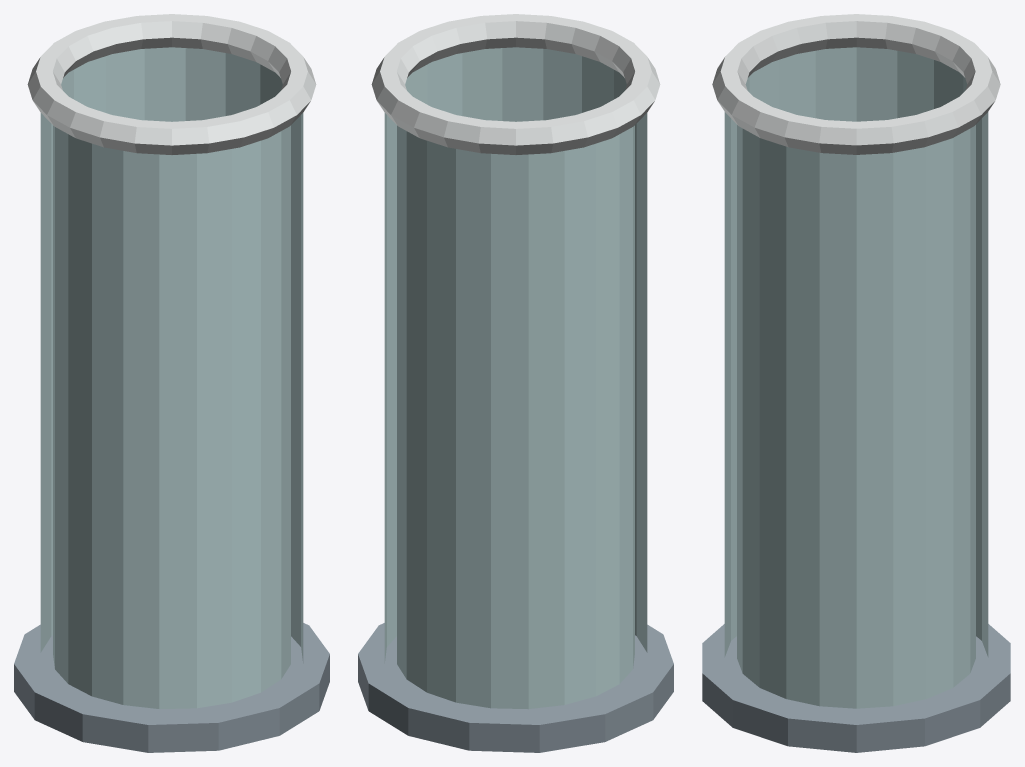
The model's file is tubo_ensayo.glb.
3 renders of one model, left to right at view 1: azimuth 30°, elevation 25°; view 2: azimuth 150°, elevation 25°; view 3: azimuth 270°, elevation 25°, orthographic.
Parts seen in each view (by area): view 1: tubo_ensayo; view 2: tubo_ensayo; view 3: tubo_ensayo.
Boxes of the visible parts, bbox=[...] form: tubo_ensayo: bbox=[14, 14, 329, 752]; tubo_ensayo: bbox=[358, 14, 673, 752]; tubo_ensayo: bbox=[702, 14, 1010, 752].
Size of the model in its own units: 0.72 by 1.54 by 0.7019.
